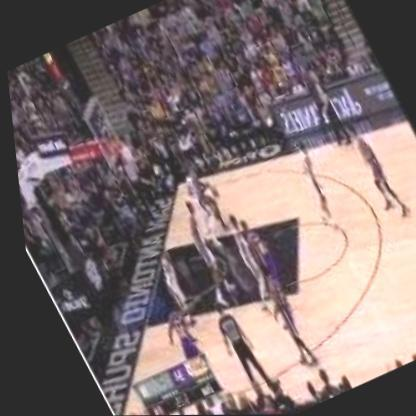basketball: (204, 184, 218, 199)
